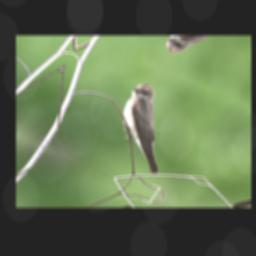Swallow: (92, 79, 206, 177)
